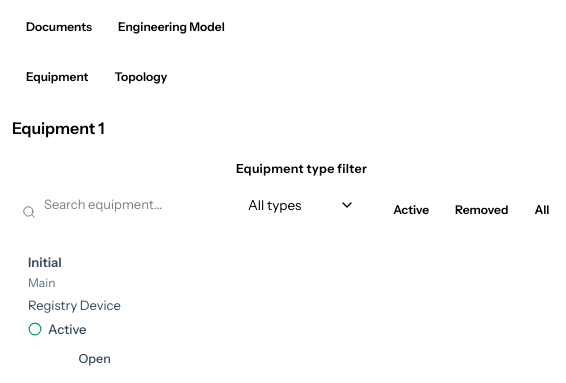
Test case: revision model workspace › debounces server search and ignores superseded responses
The width and height of the screenshot is (566, 383).
Expected: the text "Initial" is shown, [28, 254, 62, 270]
Type "old" into the field labelled "Search" at point(118, 205), box [12, 185, 224, 225]
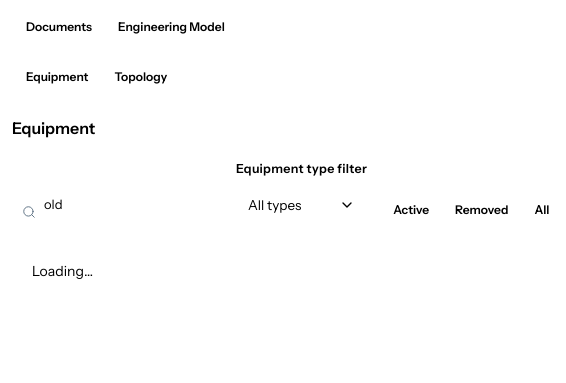
Replace the text in the field named "Search" with "latest" at point(118, 205), box [12, 185, 224, 225]
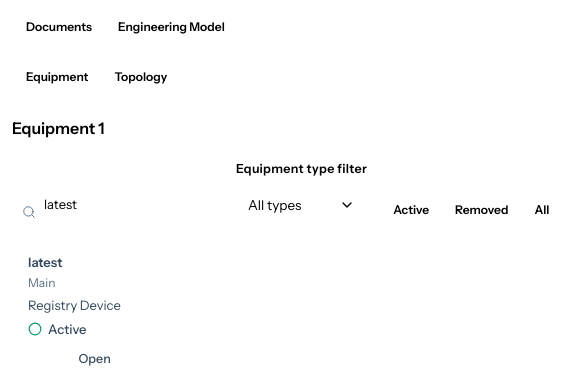
Result: the text "latest" is shown at [28, 254, 62, 270]
